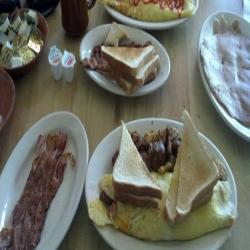bread: (166, 116, 218, 224), (104, 130, 161, 211), (95, 30, 158, 99)
